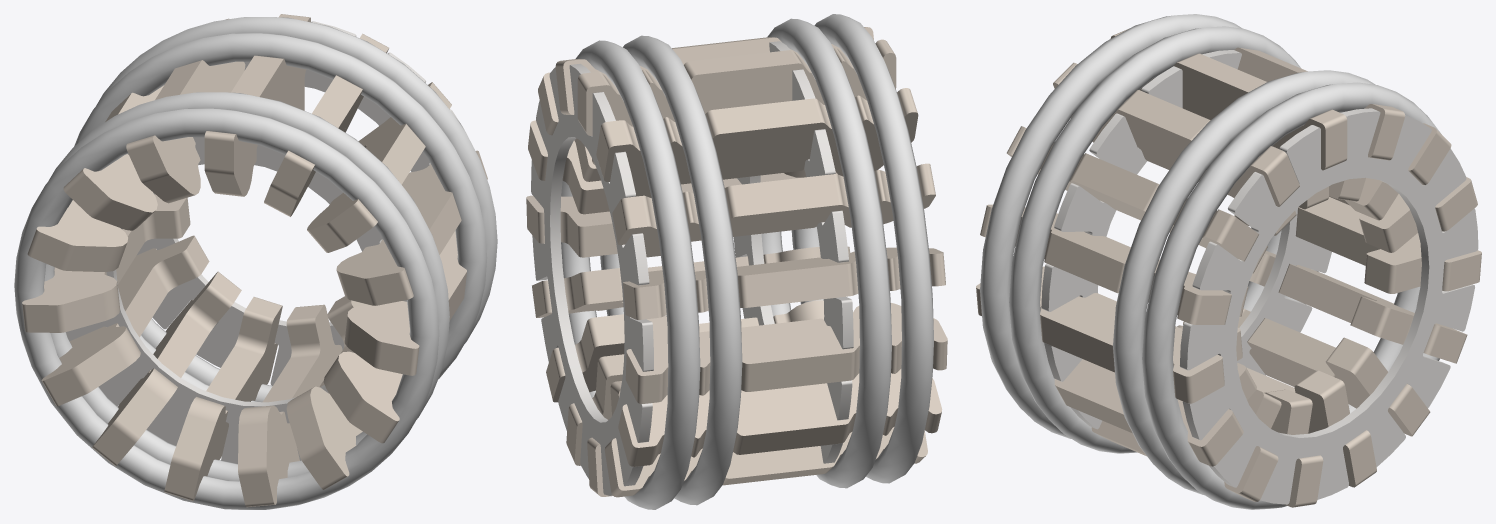
The model's file is 10.4_vtychnoy-kontakt-rt-1250.glb.
The picture shows the model from 3 angles, left to right: view 1: azimuth 30°, elevation 25°; view 2: azimuth 150°, elevation 25°; view 3: azimuth 270°, elevation 25°; orthographic projection. The views are drawn at different scales.
Parts seen in each view (by area): view 1: 10.4_vtychnoy-kontakt-rt-1250; view 2: 10.4_vtychnoy-kontakt-rt-1250; view 3: 10.4_vtychnoy-kontakt-rt-1250.
Boxes of the visible parts, x1,y1,x2,y2 form: 10.4_vtychnoy-kontakt-rt-1250: (14, 14, 497, 509); 10.4_vtychnoy-kontakt-rt-1250: (526, 14, 947, 509); 10.4_vtychnoy-kontakt-rt-1250: (976, 14, 1481, 509).
Bounding box in the file's own units: 98.23 × 86.8 × 98.23.
